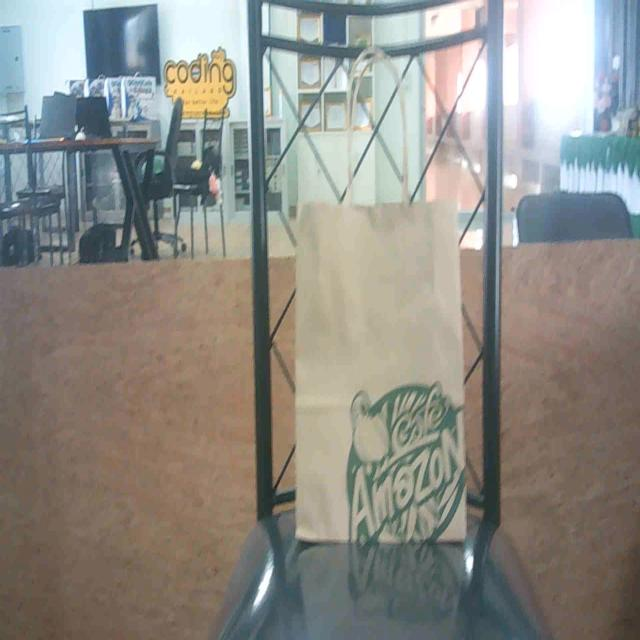bag: (294, 196, 463, 550)
